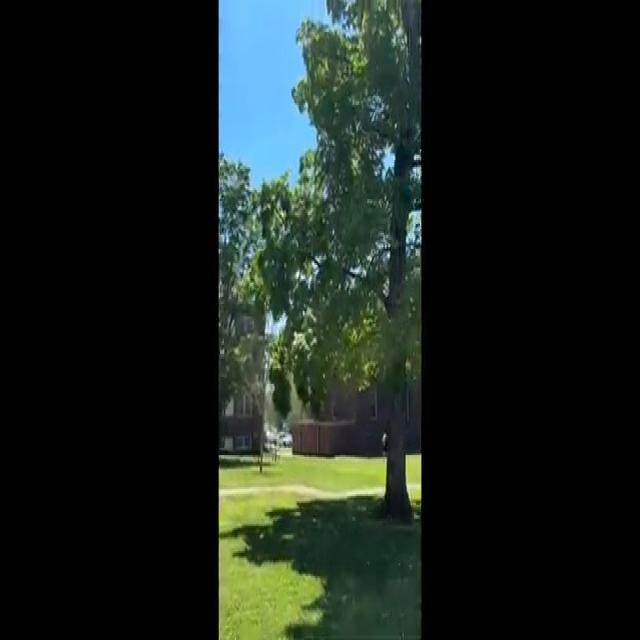drone: (358, 184, 386, 222)
